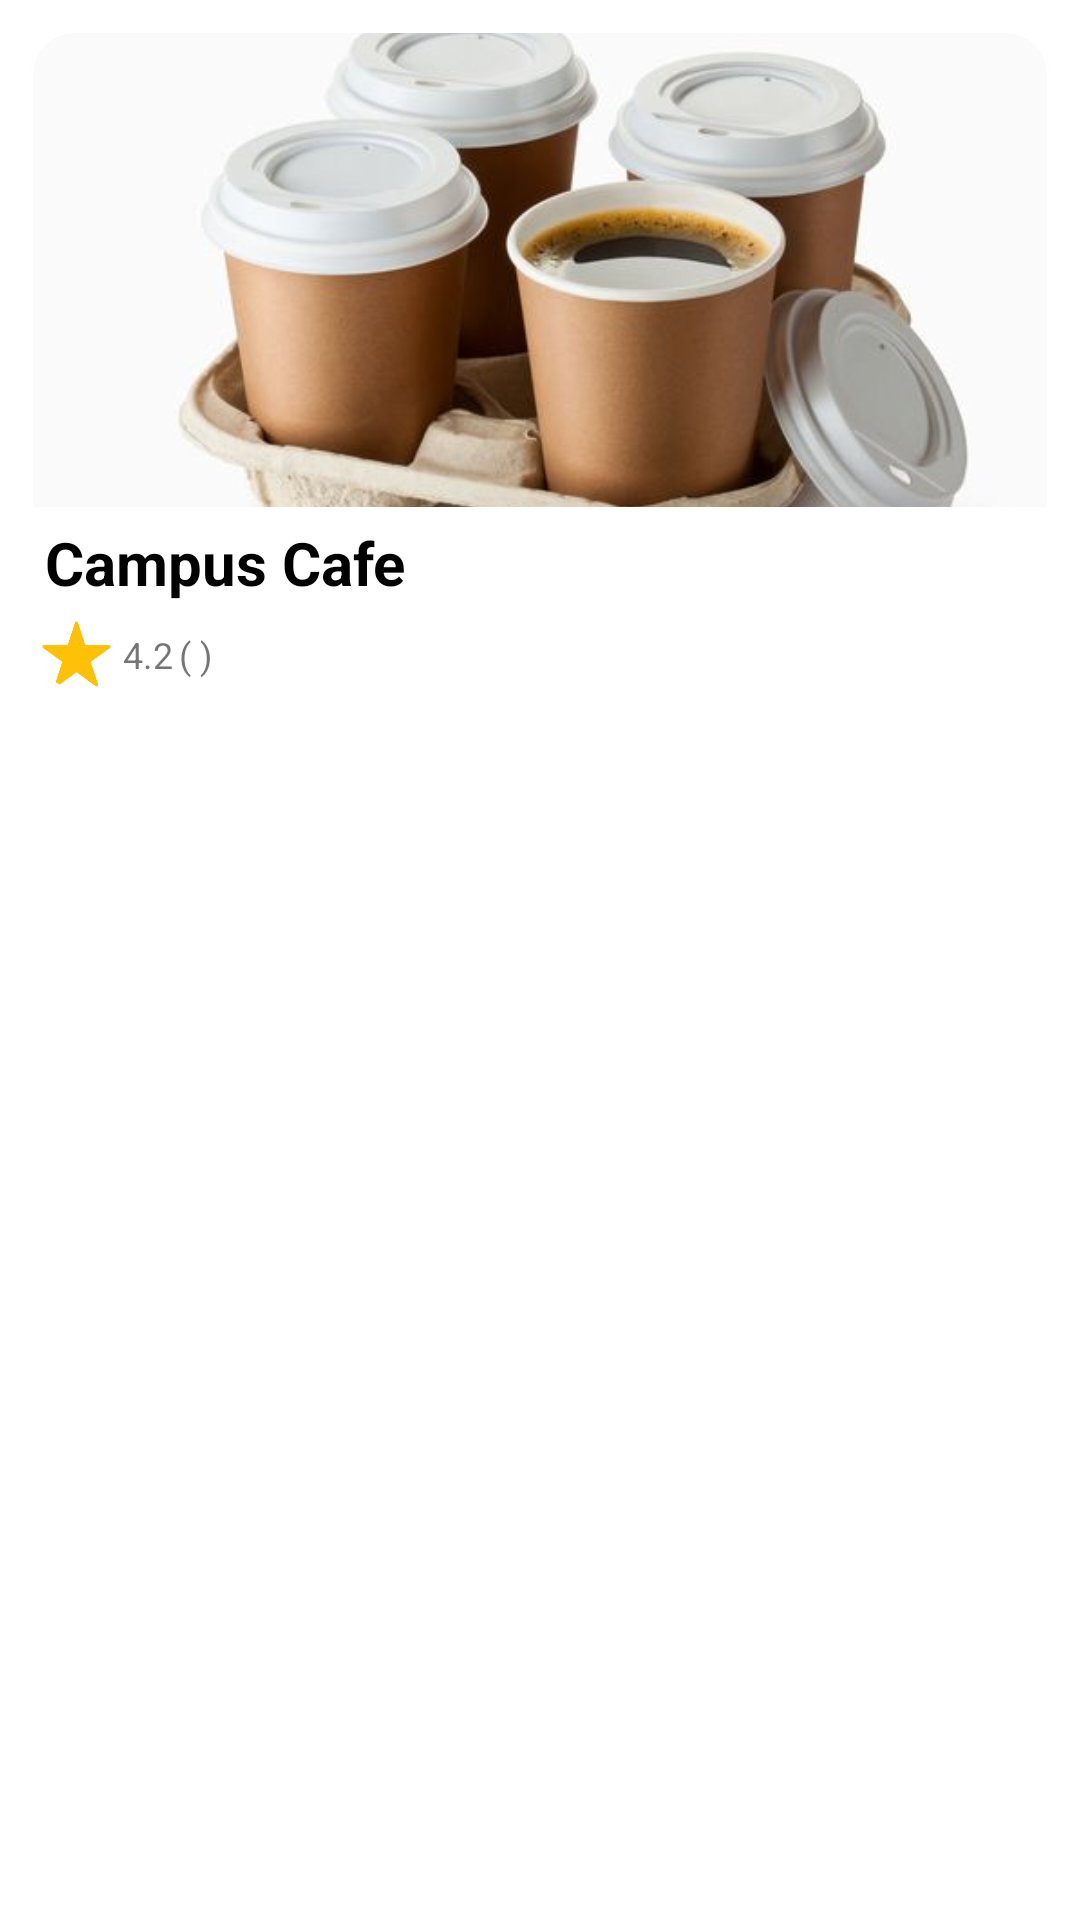

Locate icon controls on the screen. Image size 1080px x 1920px, boxes as region(x1, y1, x2, y2).
star: region(42, 621, 111, 687)
